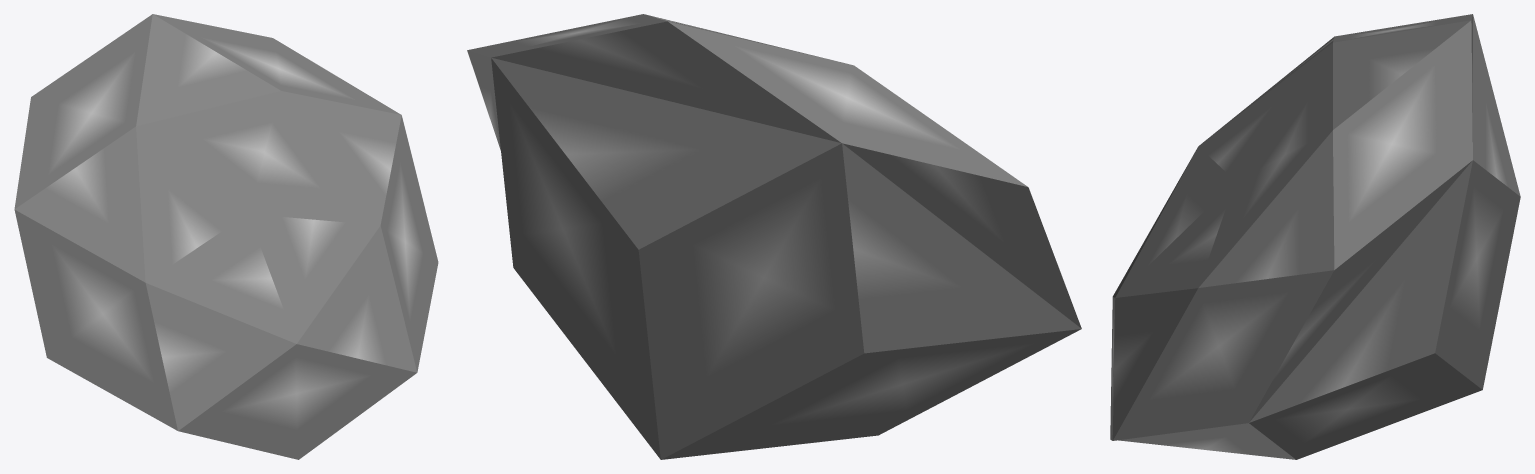
Rendered from ruby.obj.
3 renders of one model, left to right at view 1: azimuth 30°, elevation 25°; view 2: azimuth 150°, elevation 25°; view 3: azimuth 270°, elevation 25°, orthographic. The views are drawn at different scales.
Visible parts, largest first — view 1: Gem.001; view 2: Gem.001; view 3: Gem.001.
Boxes of the visible parts, left/top/right/bottom form: Gem.001: left=14, top=14, right=438, bottom=459; Gem.001: left=467, top=14, right=1081, bottom=459; Gem.001: left=1110, top=14, right=1520, bottom=459.
Bounding box in the file's own units: 1.9 × 1.57 × 1.4.
